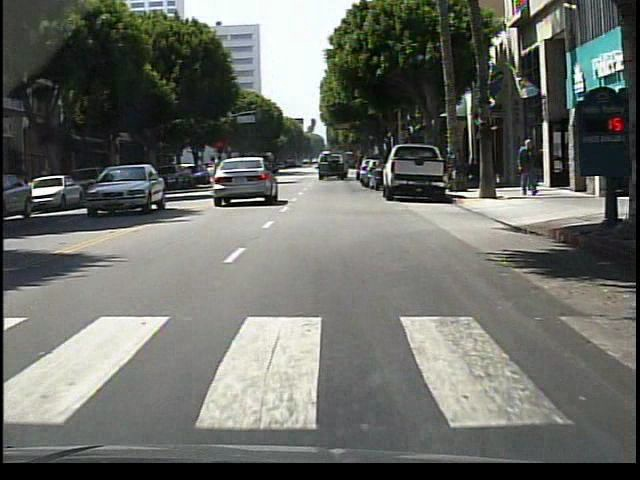person: (518, 139, 540, 199), (524, 147, 539, 196), (212, 157, 227, 201)
